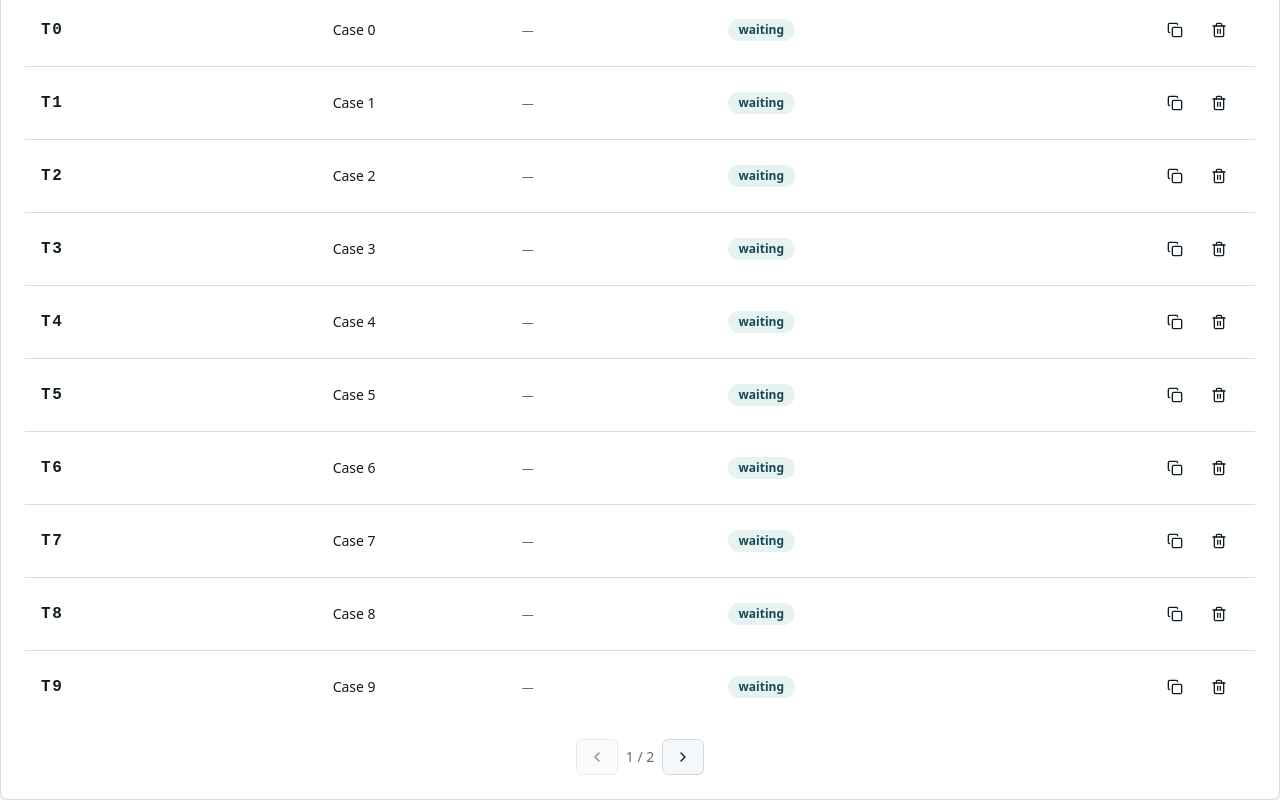
Scenario: deployed stations server pagination › filters mode and fetches only ten rows per page
(page scrolled)
expect the text "T0" is shown: met, box [41,20,63,38]
expect the text "1 / 2" is shown: met, box [626,746,654,766]
What coordinates should you click on to do the following:
click the button named "Halaman berikutnya"
I would click on:
 (683, 756)
Its box is [662,738,704,774].
(page scrolled)
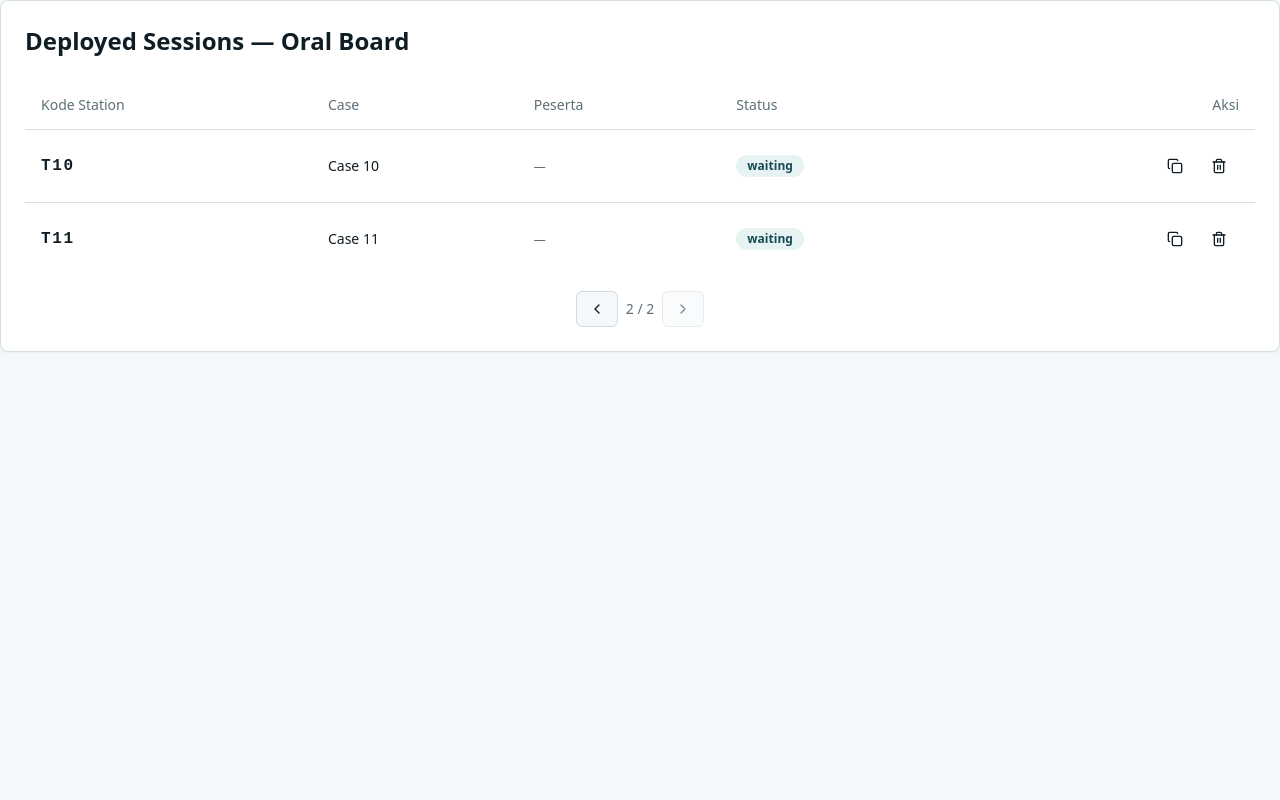
expect the text "T10" is shown: met, box [41,156,75,174]
expect the text "T0" is gone: met
